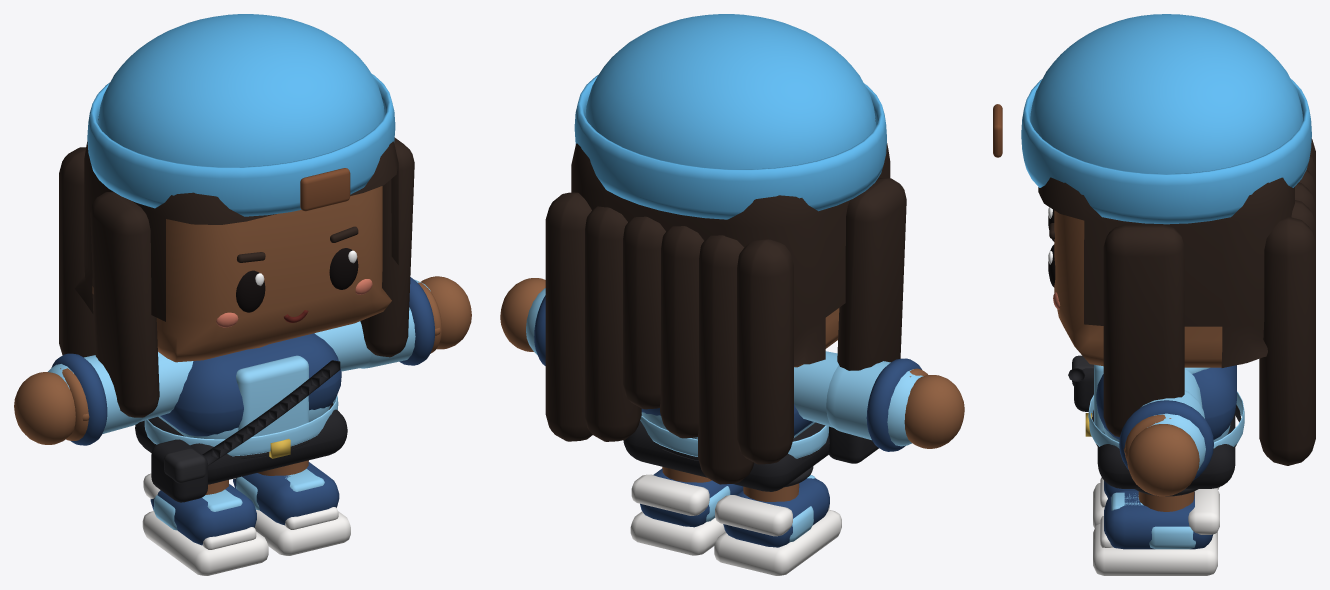
File: zen_chibi_v02.glb
3 renders of one model, left to right at view 1: azimuth 30°, elevation 25°; view 2: azimuth 150°, elevation 25°; view 3: azimuth 270°, elevation 25°, orthographic.
Parts seen in each view (by area): view 1: Hat_Beanie, Head, Hair_Locks, Hat_Cuff, Jacket, Shoe_R, Hair_Cap, Shoe_L, Hair_Long, Arm_R, Hand_R, Arm_L (+8 smaller); view 2: Hair_Long, Hat_Beanie, Hat_Cuff, Hair_Cap, Hair_Locks, Shoe_R, Arm_R, Shoe_L, Shorts, Hand_R, Jacket, Hand_L (+3 smaller); view 3: Hat_Beanie, Hair_Cap, Hair_Locks, Hair_Long, Hat_Cuff, Shoe_L, Head, Hand_L, Jacket, Arm_L, Shorts, Bag (+3 smaller).
Part boxes in pixels (x1=…): Hat_Beanie: x1=98, y1=14, x2=384, y2=167; Head: x1=92, y1=186, x2=391, y2=362; Hair_Locks: x1=90, y1=137, x2=414, y2=417; Hat_Cuff: x1=87, y1=74, x2=395, y2=216; Jacket: x1=144, y1=333, x2=341, y2=456; Shoe_R: x1=142, y1=473, x2=268, y2=575; Hair_Cap: x1=75, y1=116, x2=398, y2=321; Shoe_L: x1=233, y1=462, x2=350, y2=555; Hair_Long: x1=59, y1=147, x2=95, y2=357; Arm_R: x1=48, y1=352, x2=193, y2=445; Hand_R: x1=14, y1=368, x2=89, y2=444; Arm_L: x1=314, y1=277, x2=434, y2=371; Hair_Long: x1=545, y1=192, x2=793, y2=484; Hat_Beanie: x1=585, y1=14, x2=876, y2=169; Hat_Cuff: x1=574, y1=75, x2=886, y2=219; Hair_Cap: x1=571, y1=118, x2=890, y2=366; Hair_Locks: x1=837, y1=178, x2=906, y2=370; Shoe_R: x1=714, y1=475, x2=841, y2=575; Arm_R: x1=794, y1=351, x2=923, y2=451; Shoe_L: x1=630, y1=468, x2=743, y2=555; Shorts: x1=623, y1=415, x2=829, y2=491; Hand_R: x1=904, y1=368, x2=964, y2=448; Jacket: x1=640, y1=404, x2=828, y2=458; Hand_L: x1=500, y1=278, x2=545, y2=351; Hat_Beanie: x1=1030, y1=14, x2=1302, y2=173; Hair_Cap: x1=1038, y1=177, x2=1294, y2=367; Hair_Locks: x1=1103, y1=225, x2=1184, y2=437; Hair_Long: x1=1259, y1=138, x2=1315, y2=465; Hat_Cuff: x1=1021, y1=79, x2=1311, y2=224; Shoe_L: x1=1093, y1=488, x2=1219, y2=575; Head: x1=1054, y1=210, x2=1242, y2=367; Hand_L: x1=1124, y1=414, x2=1199, y2=496; Jacket: x1=1088, y1=365, x2=1244, y2=448; Arm_L: x1=1119, y1=368, x2=1213, y2=480; Shorts: x1=1097, y1=413, x2=1235, y2=496; Bag: x1=1072, y1=355, x2=1093, y2=411.
Size of the model in its own units: 0.644 by 0.6956 by 0.3998.
